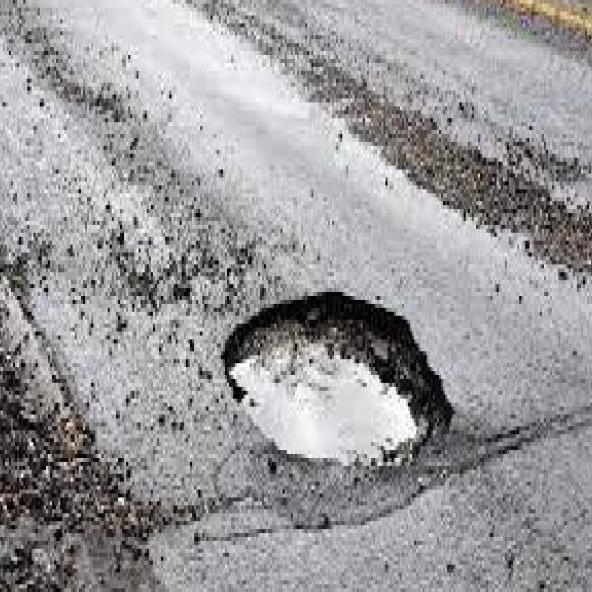pothole: (207, 285, 461, 477)
